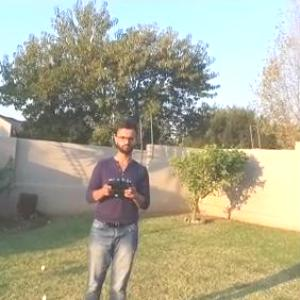follow: (80, 114, 155, 299)
